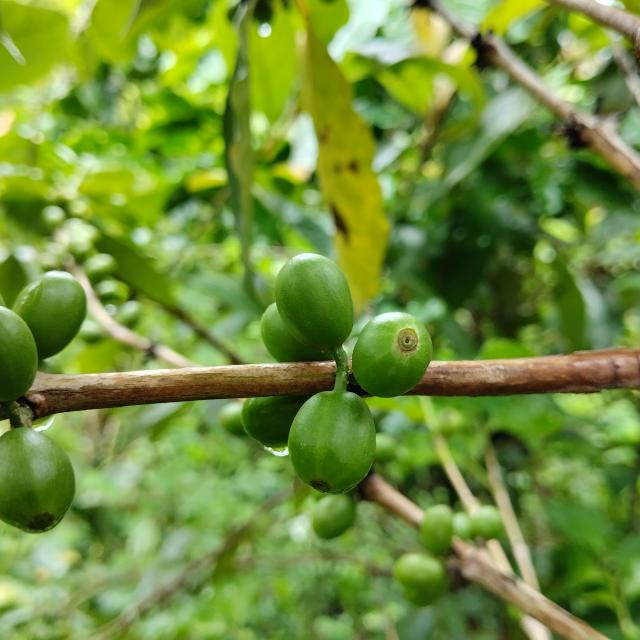green: (288, 390, 376, 495), (275, 253, 354, 357), (0, 428, 74, 534), (352, 312, 433, 398), (11, 270, 86, 360), (260, 303, 332, 362), (241, 396, 309, 449), (0, 306, 37, 402)
